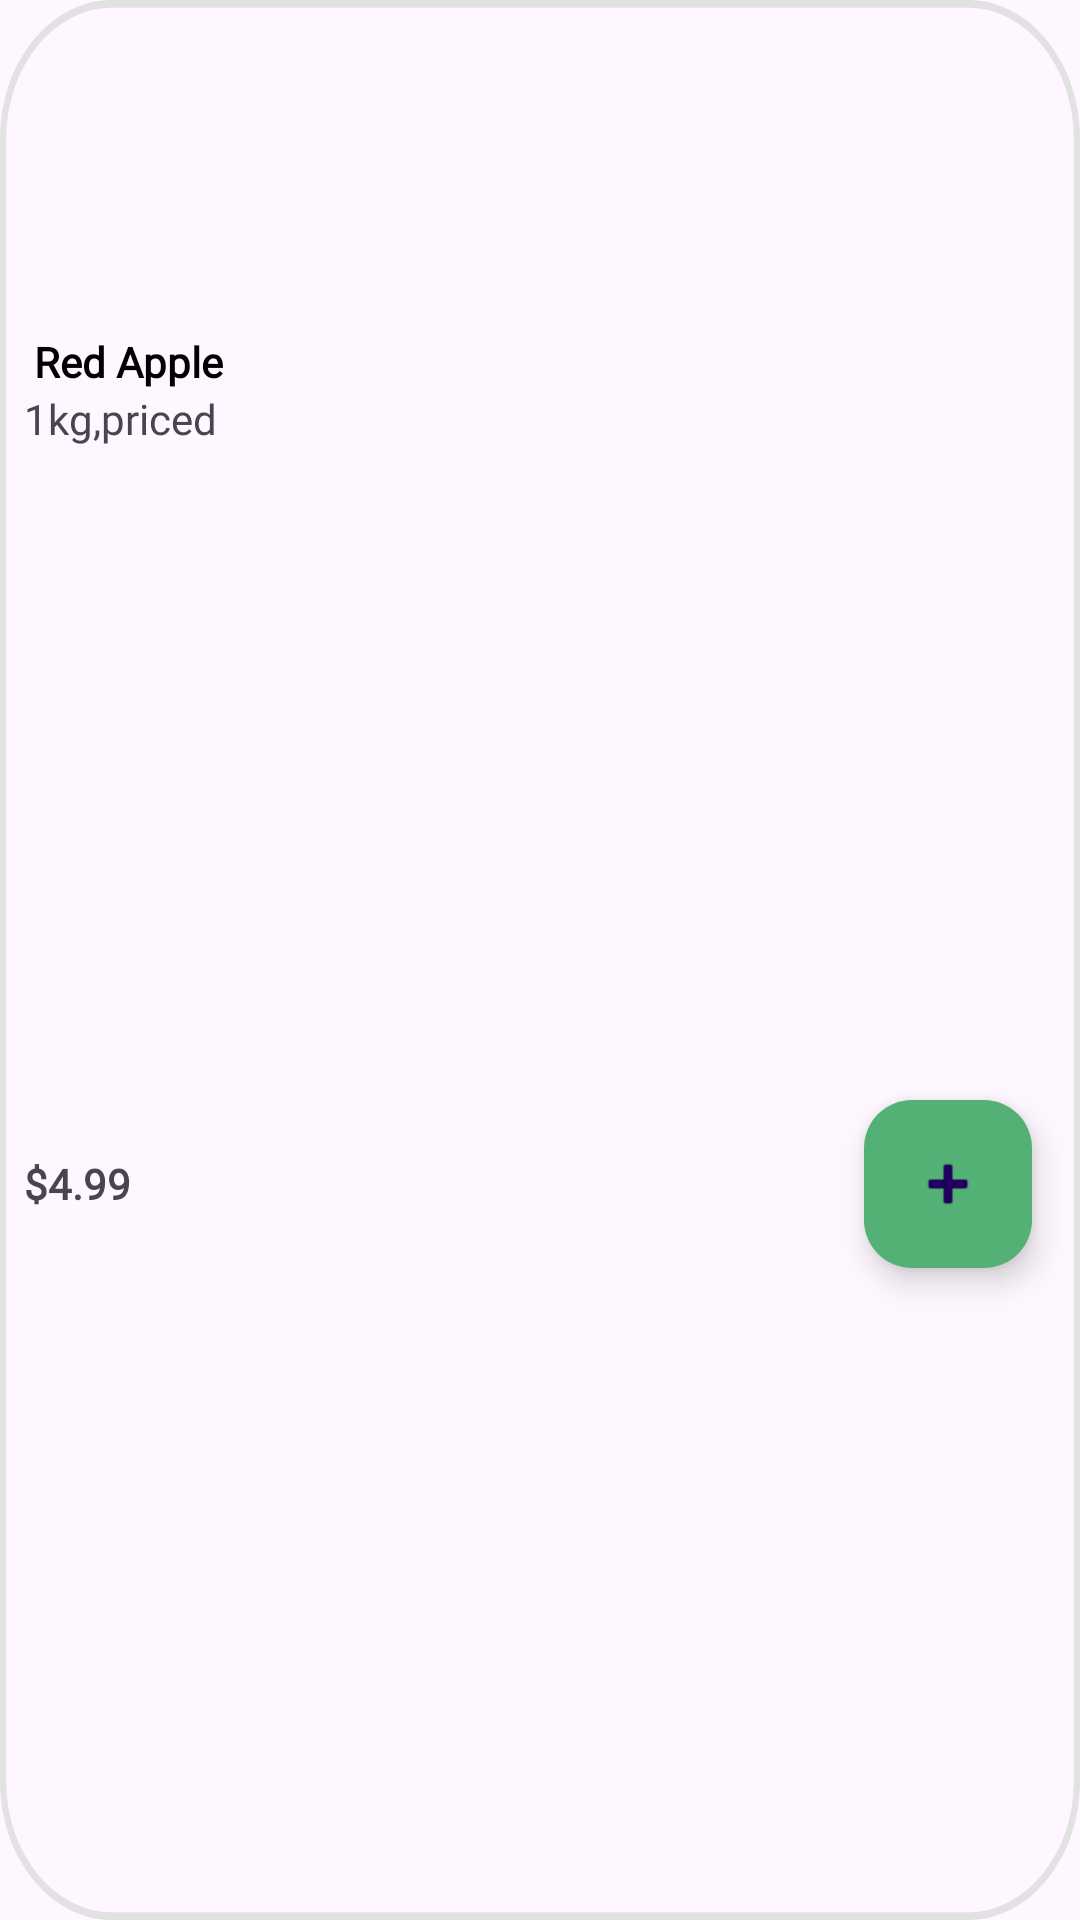

Icon click points for this 1080 × 1920 phone screenshot, format (x,y):
add: (948,1184)
